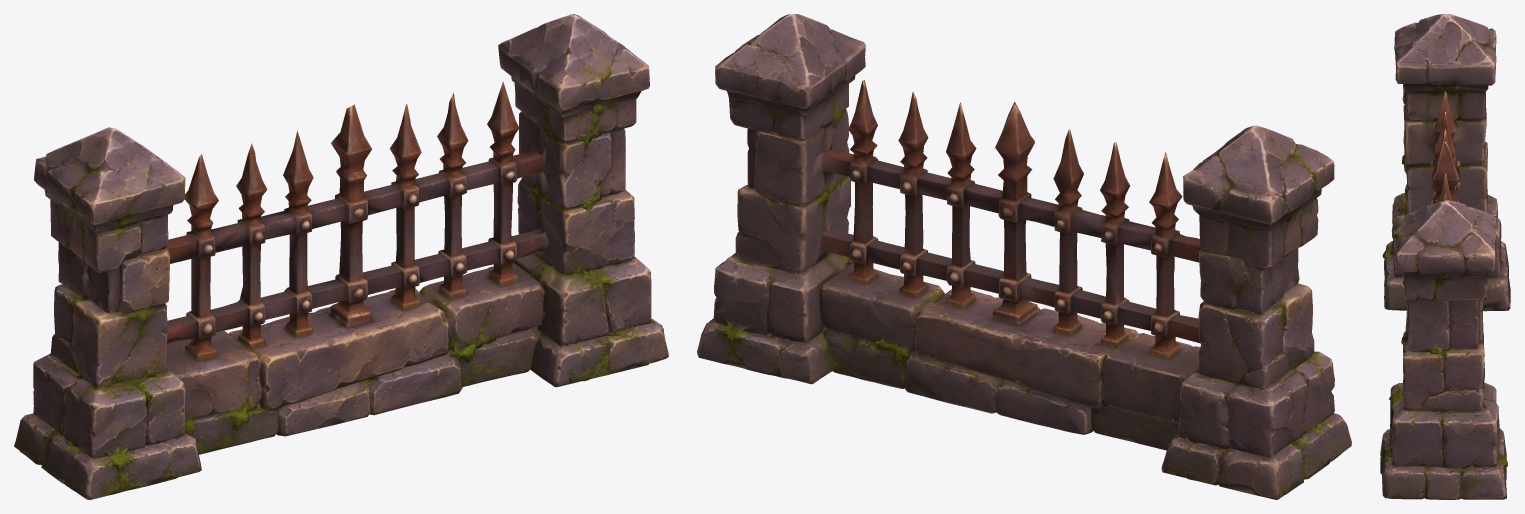
Rendered from gen_fence.glb.
The picture shows the model from 3 angles, left to right: view 1: azimuth 30°, elevation 25°; view 2: azimuth 150°, elevation 25°; view 3: azimuth 270°, elevation 25°; orthographic projection. The views are drawn at different scales.
Visible parts, largest first — view 1: tripo_node_d5687e5b-b2b3-49c4-a059-18b8a7ad8836; view 2: tripo_node_d5687e5b-b2b3-49c4-a059-18b8a7ad8836; view 3: tripo_node_d5687e5b-b2b3-49c4-a059-18b8a7ad8836.
Part boxes in pixels (box(x1,y1,x2,y2)): tripo_node_d5687e5b-b2b3-49c4-a059-18b8a7ad8836: box(14, 14, 668, 499); tripo_node_d5687e5b-b2b3-49c4-a059-18b8a7ad8836: box(697, 14, 1351, 499); tripo_node_d5687e5b-b2b3-49c4-a059-18b8a7ad8836: box(1380, 14, 1510, 499).
Size of the model in its own units: 0.9811 by 0.5332 by 0.228.
1 material, 1 textured.
